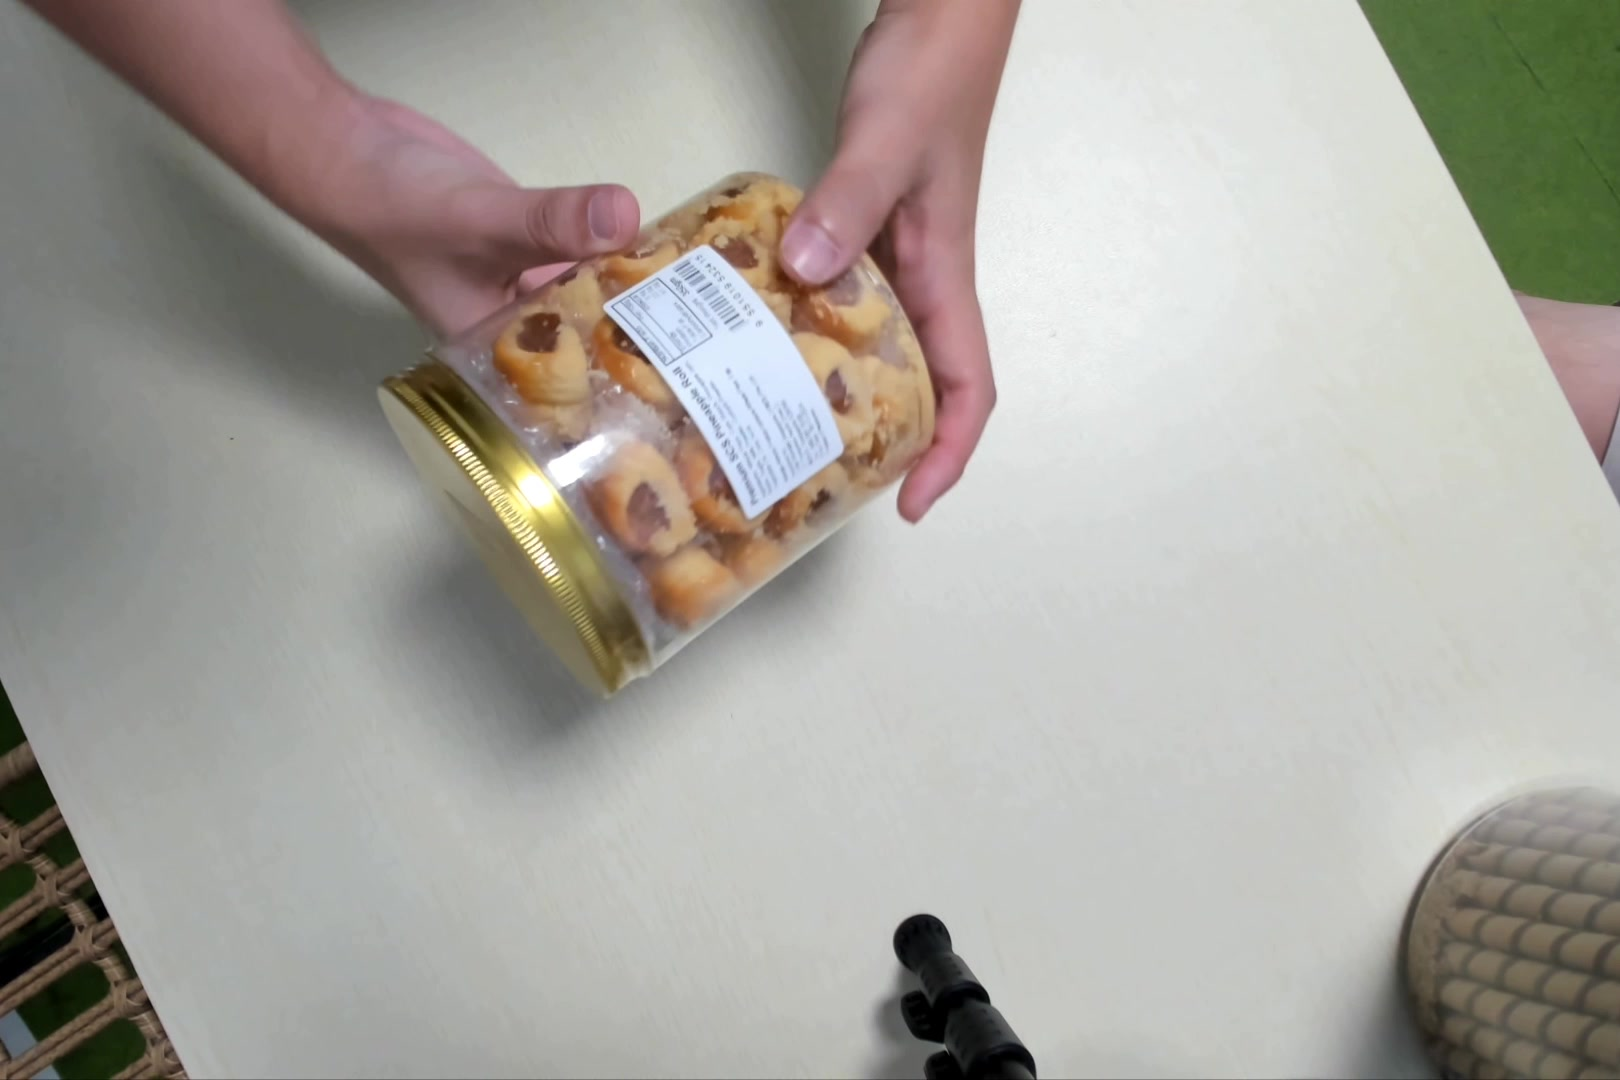BiscuitsCrackersCookies_300-399g_NonHalal_NonHealthy: (381, 159, 944, 705)
